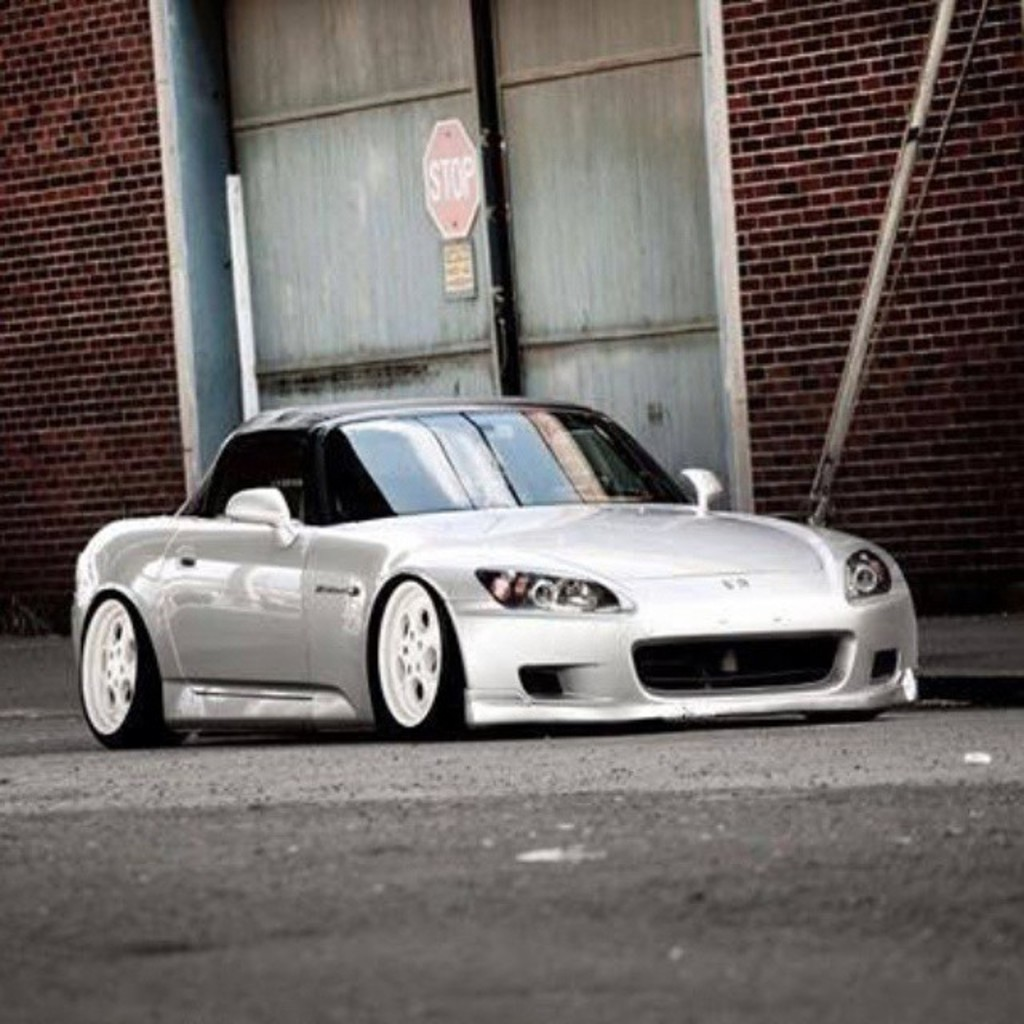cars: (22, 388, 925, 743)
